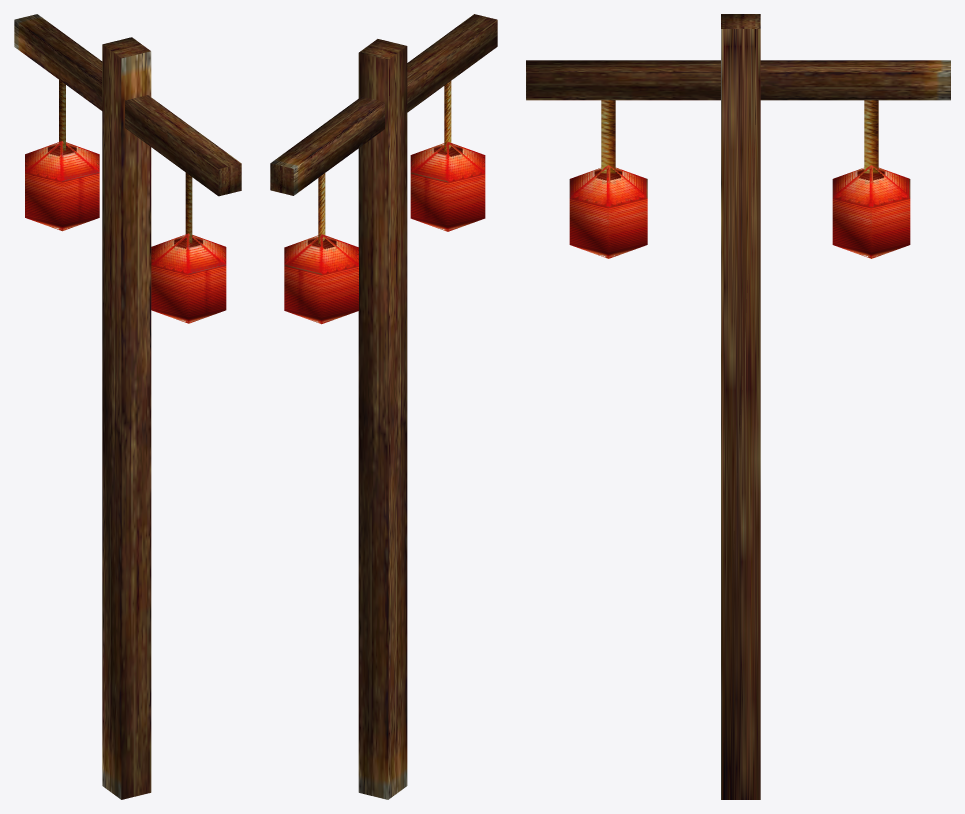
File: cj_resta01_light_n.glb
3 renders of one model, left to right at view 1: azimuth 30°, elevation 25°; view 2: azimuth 150°, elevation 25°; view 3: azimuth 270°, elevation 25°, orthographic. The views are drawn at different scales.
Visible parts, largest first — view 1: CJ_resta01_light_N, CJ_resta01_light_N01; view 2: CJ_resta01_light_N, CJ_resta01_light_N01; view 3: CJ_resta01_light_N, CJ_resta01_light_N01.
Part boxes in pixels (left/top/right/bottom): CJ_resta01_light_N: left=14, top=14, right=241, bottom=799; CJ_resta01_light_N01: left=25, top=80, right=226, bottom=323; CJ_resta01_light_N: left=270, top=14, right=497, bottom=799; CJ_resta01_light_N01: left=284, top=81, right=485, bottom=324; CJ_resta01_light_N: left=526, top=14, right=950, bottom=799; CJ_resta01_light_N01: left=569, top=100, right=910, bottom=258.
Size of the model in its own units: 0.4205 by 3.98 by 1.99.
Materials: 2 (2 with a texture image).
